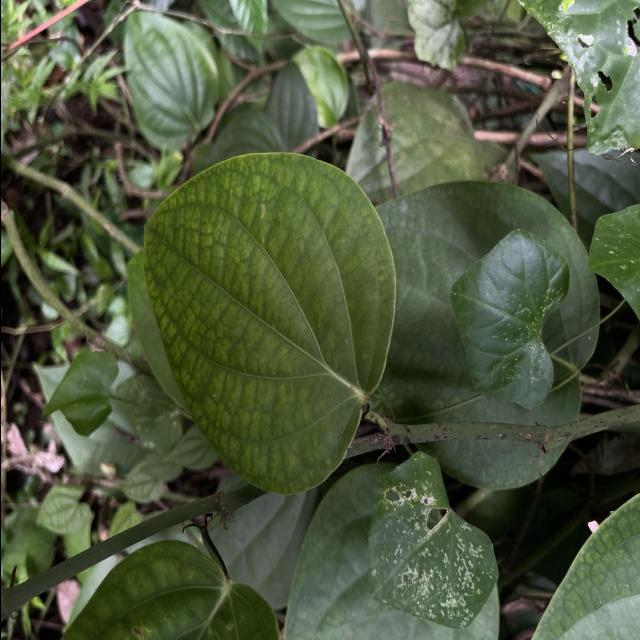Piper nigrum: (138, 149, 400, 498)
